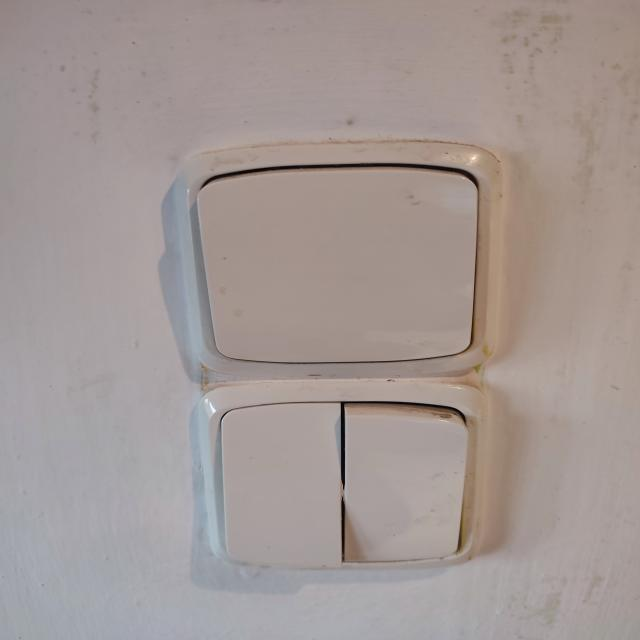house switch: (171, 141, 505, 375)
house switch double: (201, 382, 483, 568)
